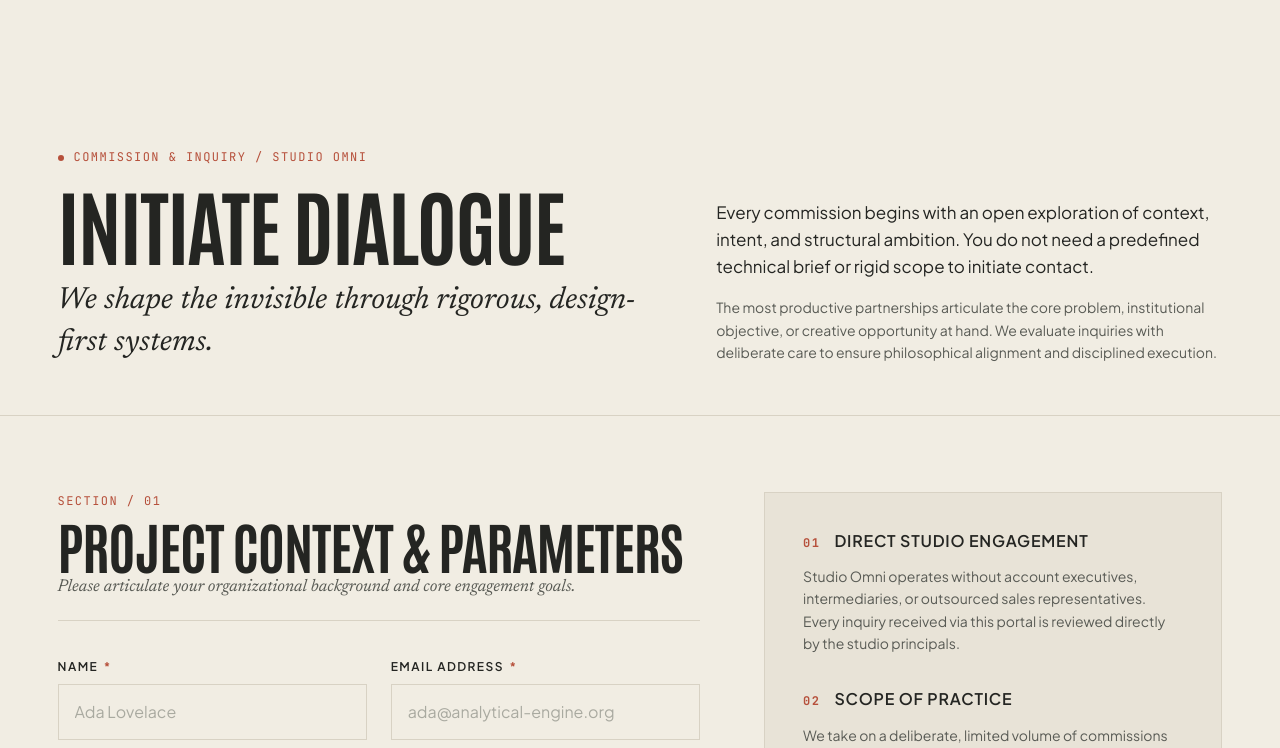
Test case: Studio Omni Contact System & Inquiry Protocol › Form Validation & Error States › validates email syntax
Type "Helena Markson" into the field labelled "Name *" at (212, 712), box [58,684,367,740]
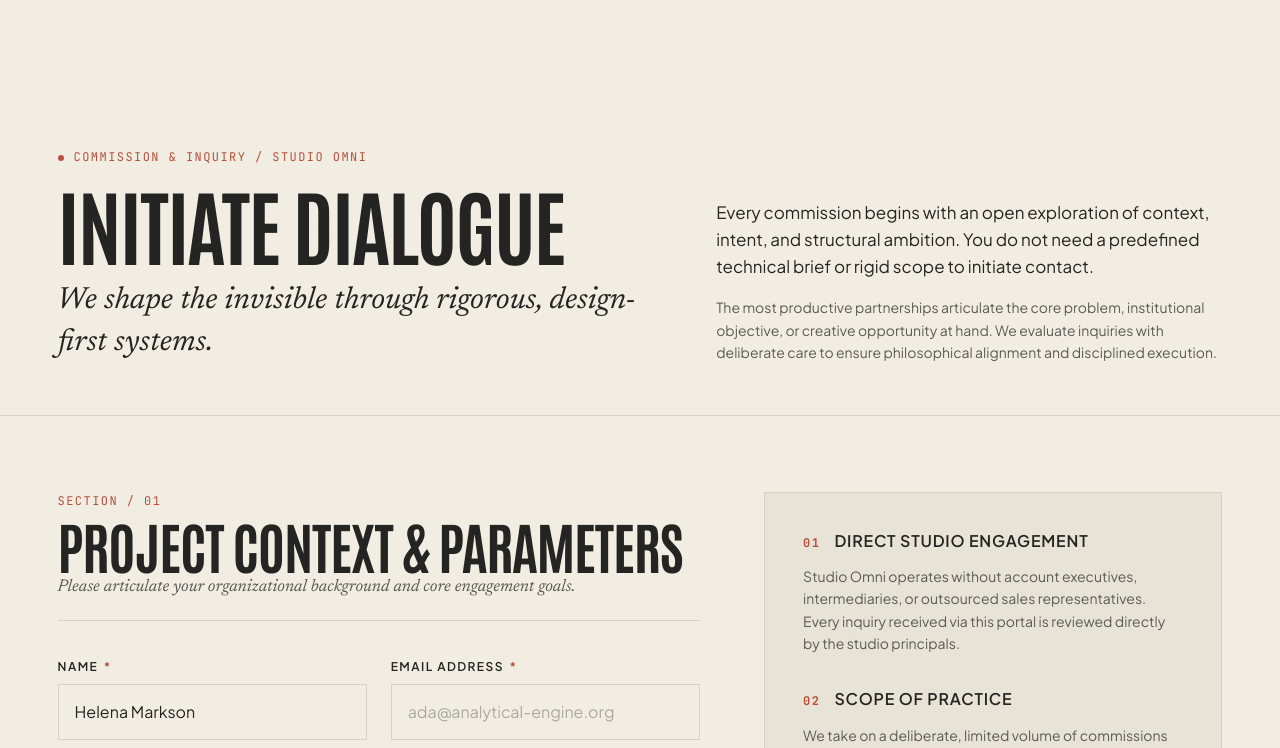
Type "not-an-email" into the field labelled "Email Address *" at (545, 712), box [391,684,700,740]
(page scrolled)
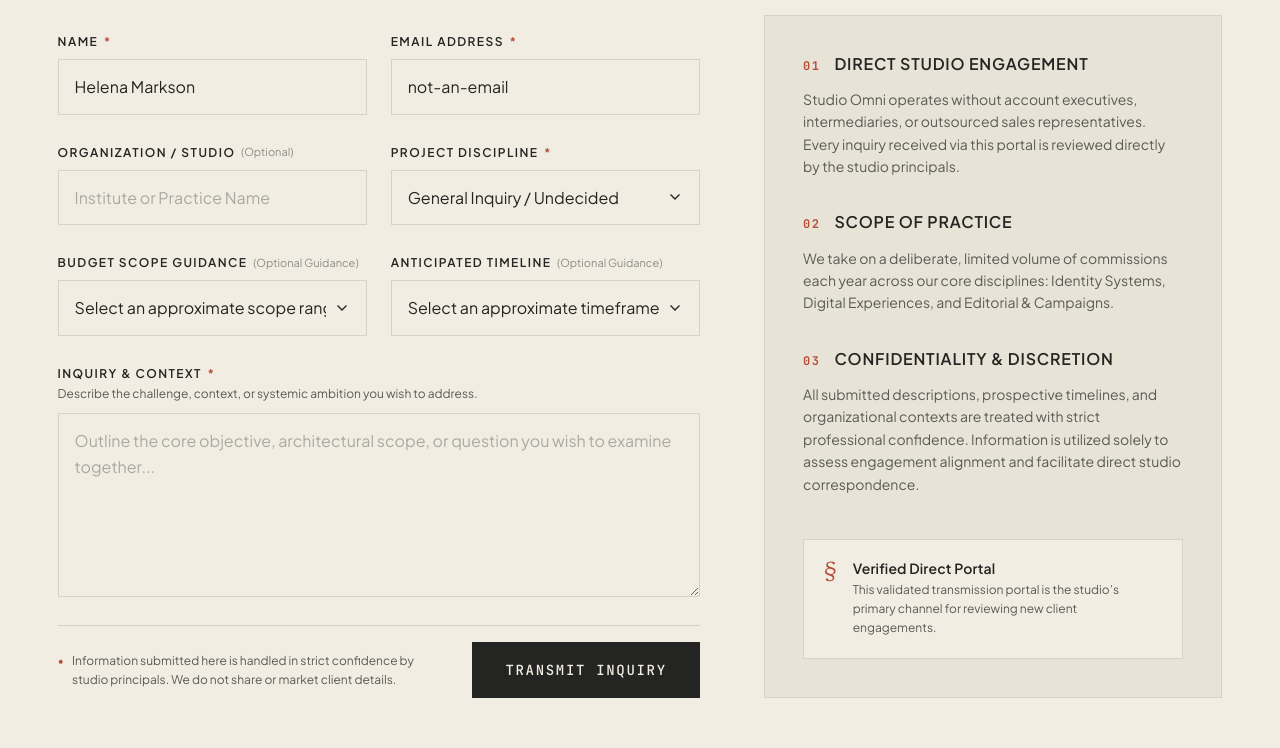
Replace the text in the text box labelled "Inquiry & Context *" with "A thoughtful architectural project description with sufficient length." at (379, 505), box [58,413,700,597]
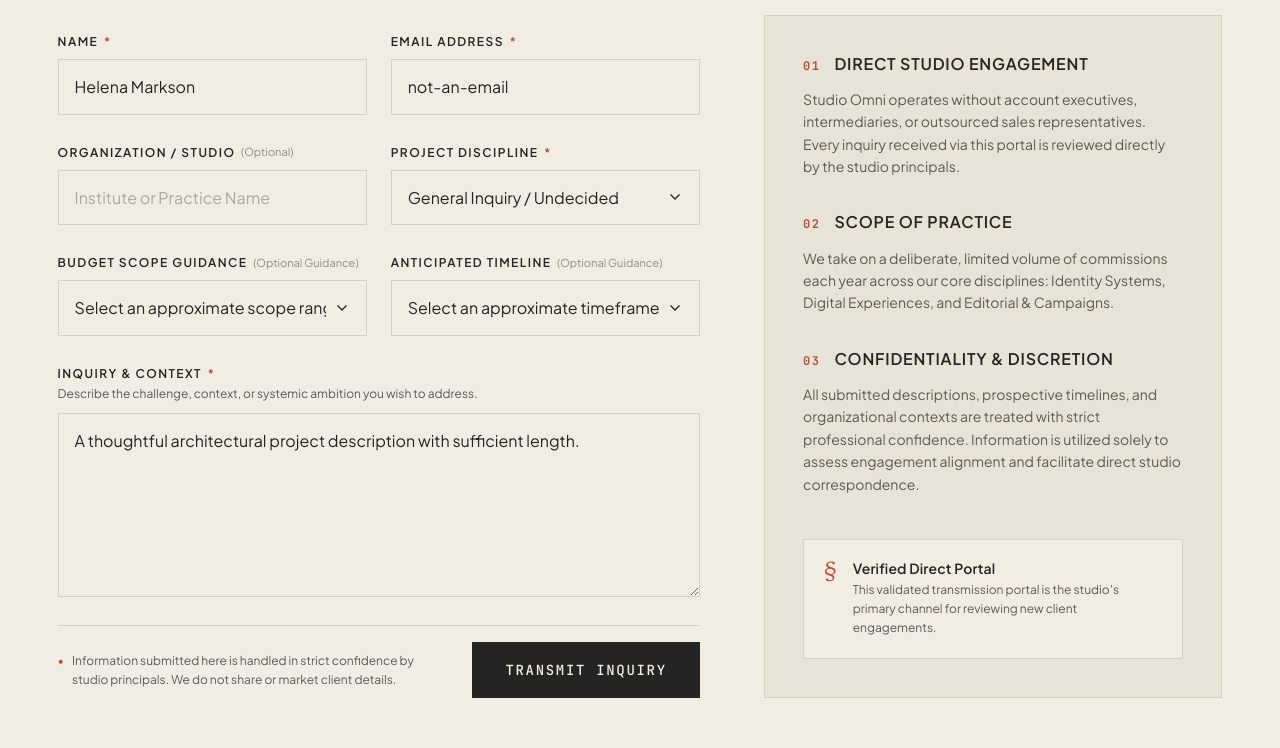
Click the button "Transmit Inquiry" at (586, 670), box [472,642,700,698]
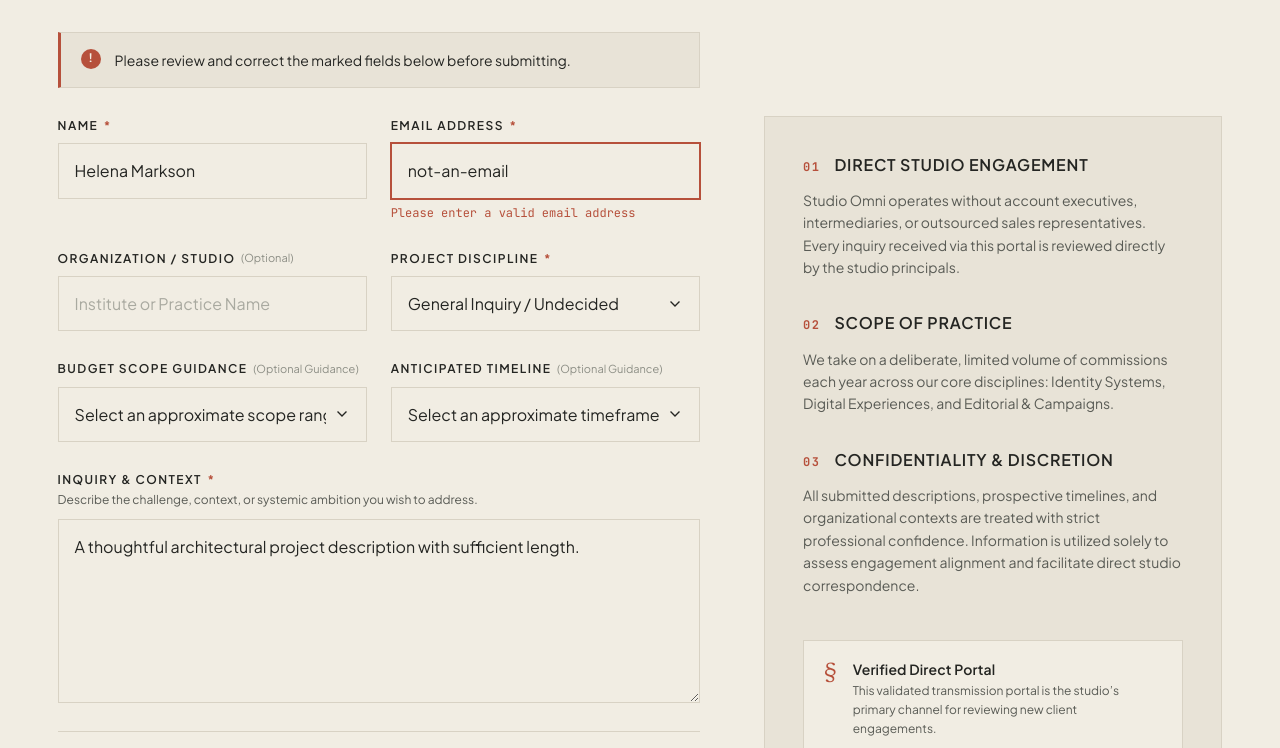
expect the text "Please enter a valid email address" is shown: met, box [391,205,636,221]
